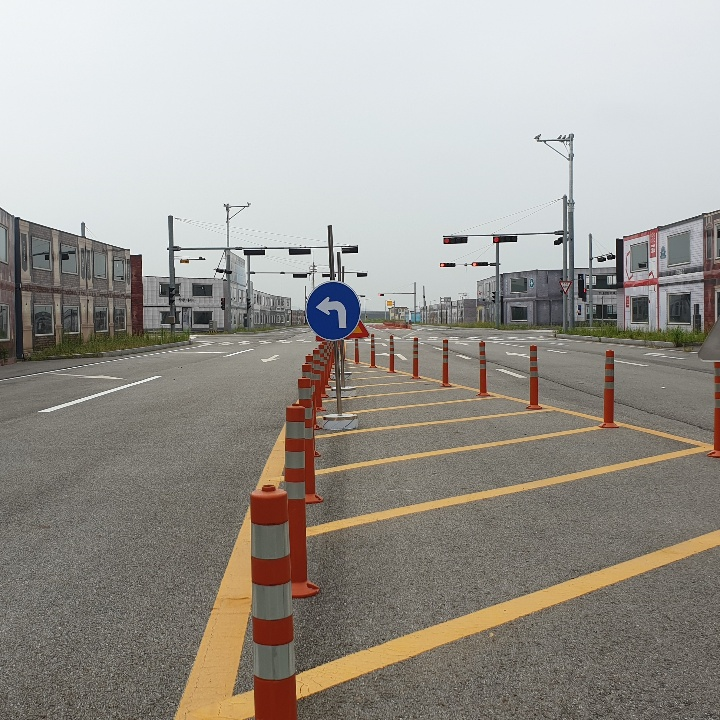left: (312, 290, 351, 334)
